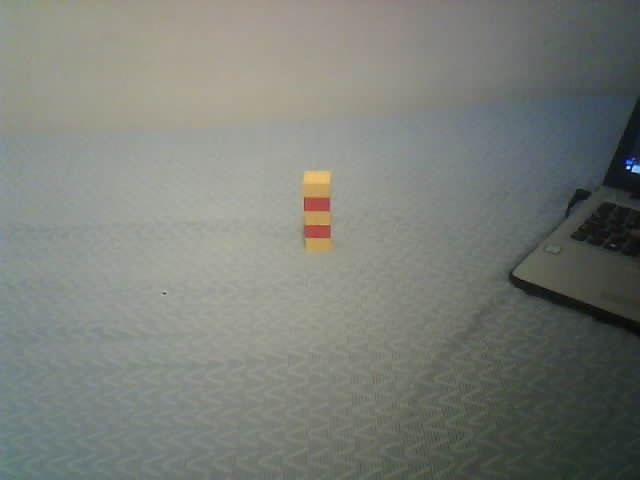lego: (300, 170, 331, 252)
